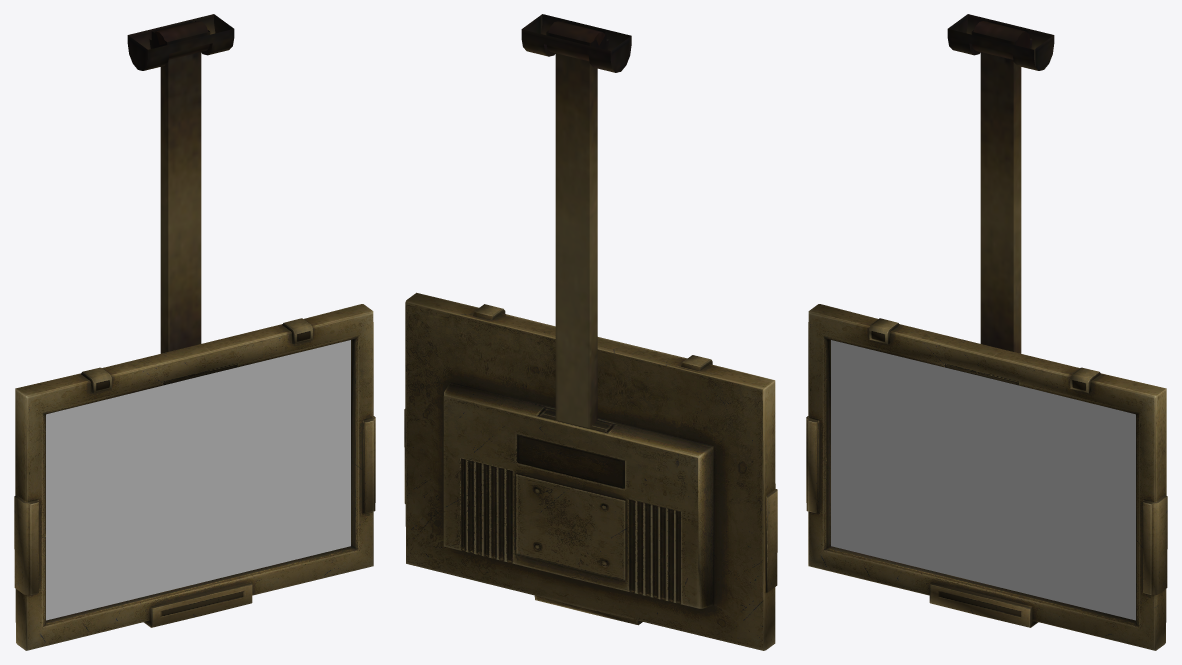
Rendered from 01_05_transporter_passenger_destinationpicker_split_monitor.dae.
The picture shows the model from 3 angles, left to right: view 1: azimuth 30°, elevation 25°; view 2: azimuth 150°, elevation 25°; view 3: azimuth 330°, elevation 25°; orthographic projection. The views are drawn at different scales.
Visible parts, largest first — view 1: screen, monitor, arm, tv_holder1; view 2: monitor, arm, tv_holder1; view 3: screen, monitor, arm, tv_holder1.
Part boxes in pixels (box(x1,y1,x2,y2)): screen: box(46, 340, 350, 620); monitor: box(14, 304, 375, 650); arm: box(154, 21, 209, 353); tv_holder1: box(127, 14, 234, 70); monitor: box(404, 292, 777, 650); arm: box(547, 21, 604, 428); tv_holder1: box(521, 14, 631, 72); screen: box(831, 340, 1135, 620); monitor: box(806, 304, 1167, 650); arm: box(972, 21, 1030, 353); tv_holder1: box(947, 14, 1054, 70).
Bounding box in the file's own units: 0.9728 × 1.51 × 0.1553.
